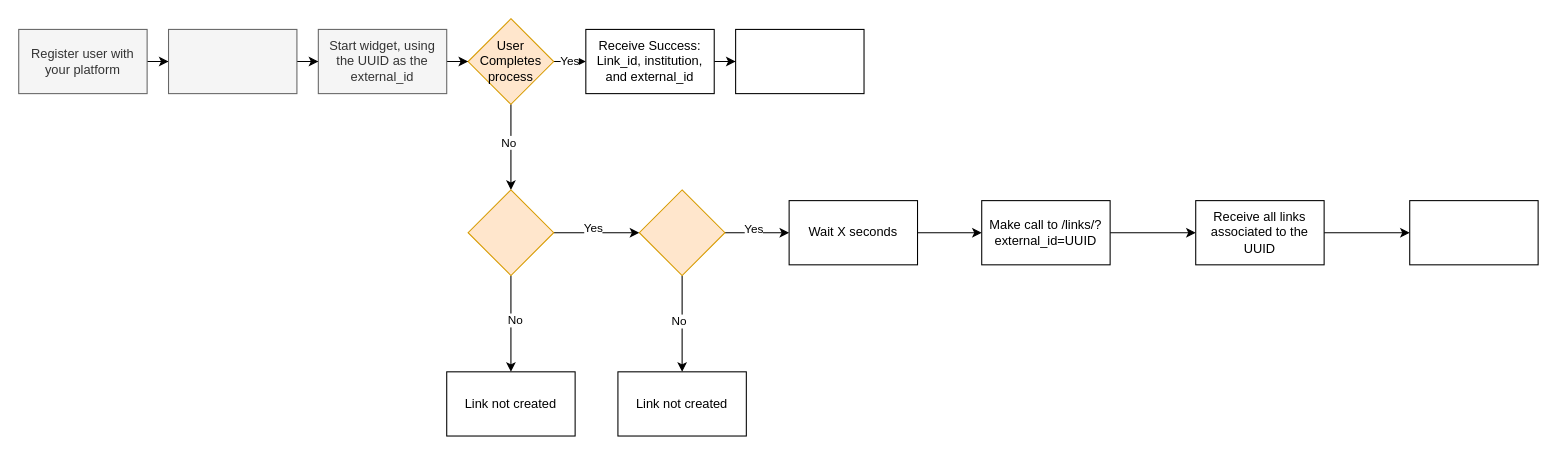
Image size: 1557x455. Some labels were removed from this diagram. Each missing label, with the centre of its shape:
"!= institution" goes at (681,232).
"Check Status of Links" goes at (1473,232).
"Generate UUID for user" goes at (232,61).
"Recevied Callback" goes at (510,232).
"Store Belvo response in your DB" goes at (799,61).
